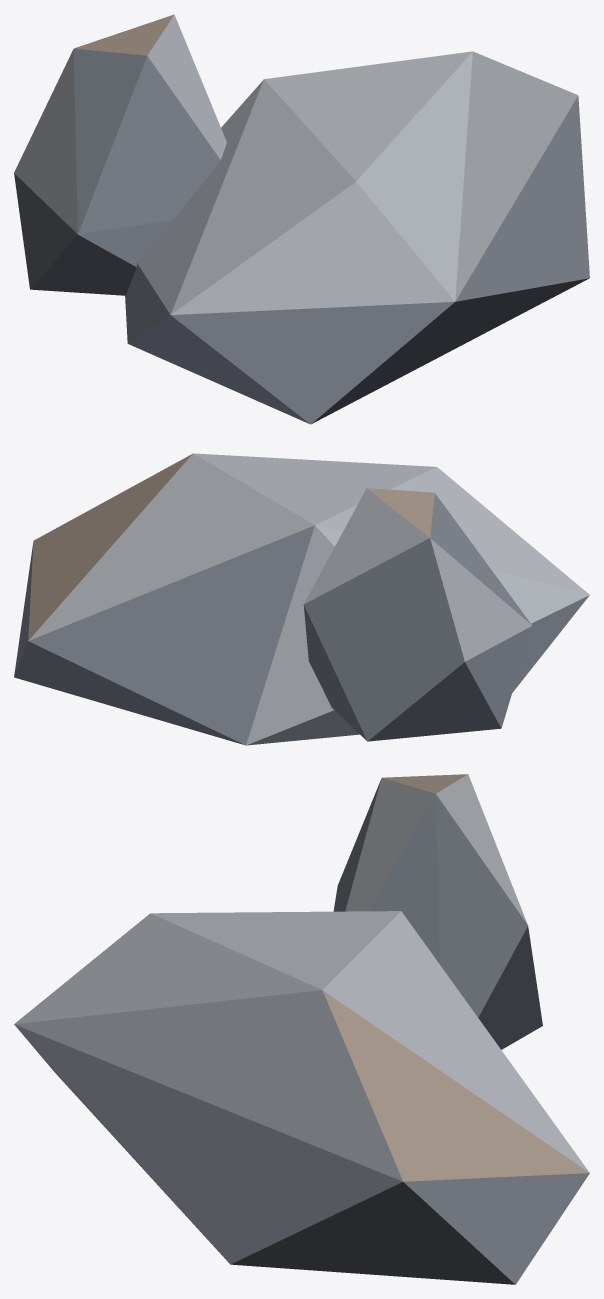
The model's file is rock_s3.glb.
The picture shows the model from 3 angles, top to bottom: view 1: azimuth 30°, elevation 25°; view 2: azimuth 150°, elevation 25°; view 3: azimuth 270°, elevation 25°; orthographic projection. The views are drawn at different scales.
Visible parts, largest first — view 1: Body; view 2: Body; view 3: Body.
Part boxes in pixels (x1,y1,x2,y2): Body: (14, 14, 589, 424); Body: (14, 453, 589, 745); Body: (14, 774, 589, 1284).
Bounding box in the file's own units: 0.7601 × 0.37 × 0.6456.
